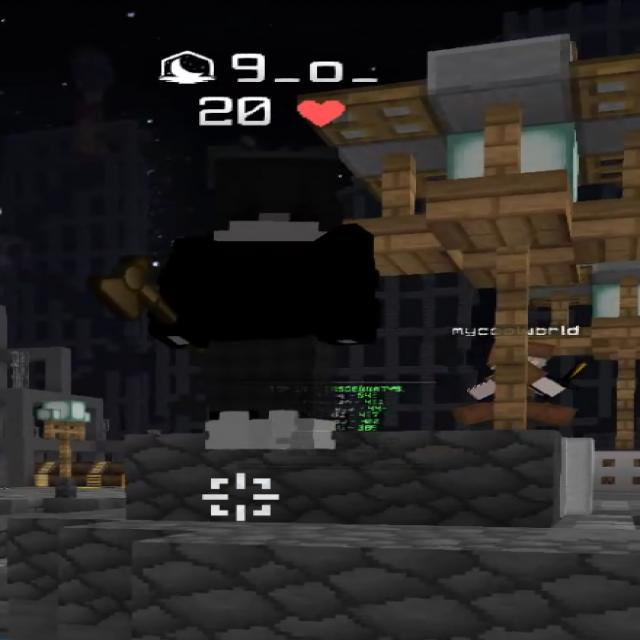Player: (154, 144, 376, 449)
